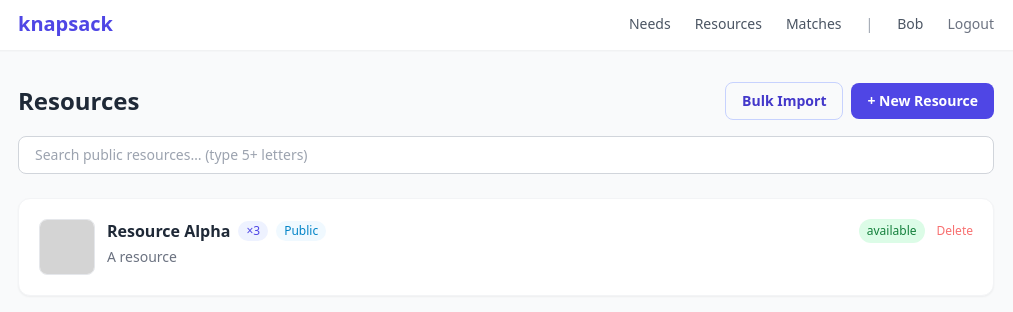
Test: ResourcesPage › shows remaining-letters hint for short query
Type "ab" into the field with placeholder "Search public resources… (type 5+ letters)" at (506, 155), box [18,136,994,174]
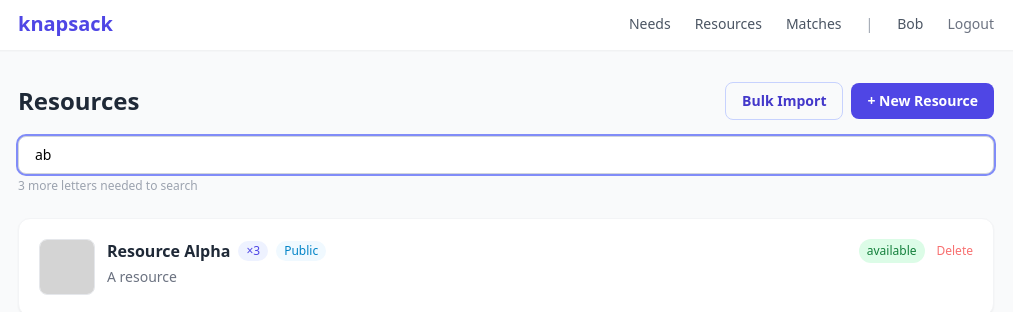
Result: the text "3 more letters needed to search" is shown at [18,177,198,194]
